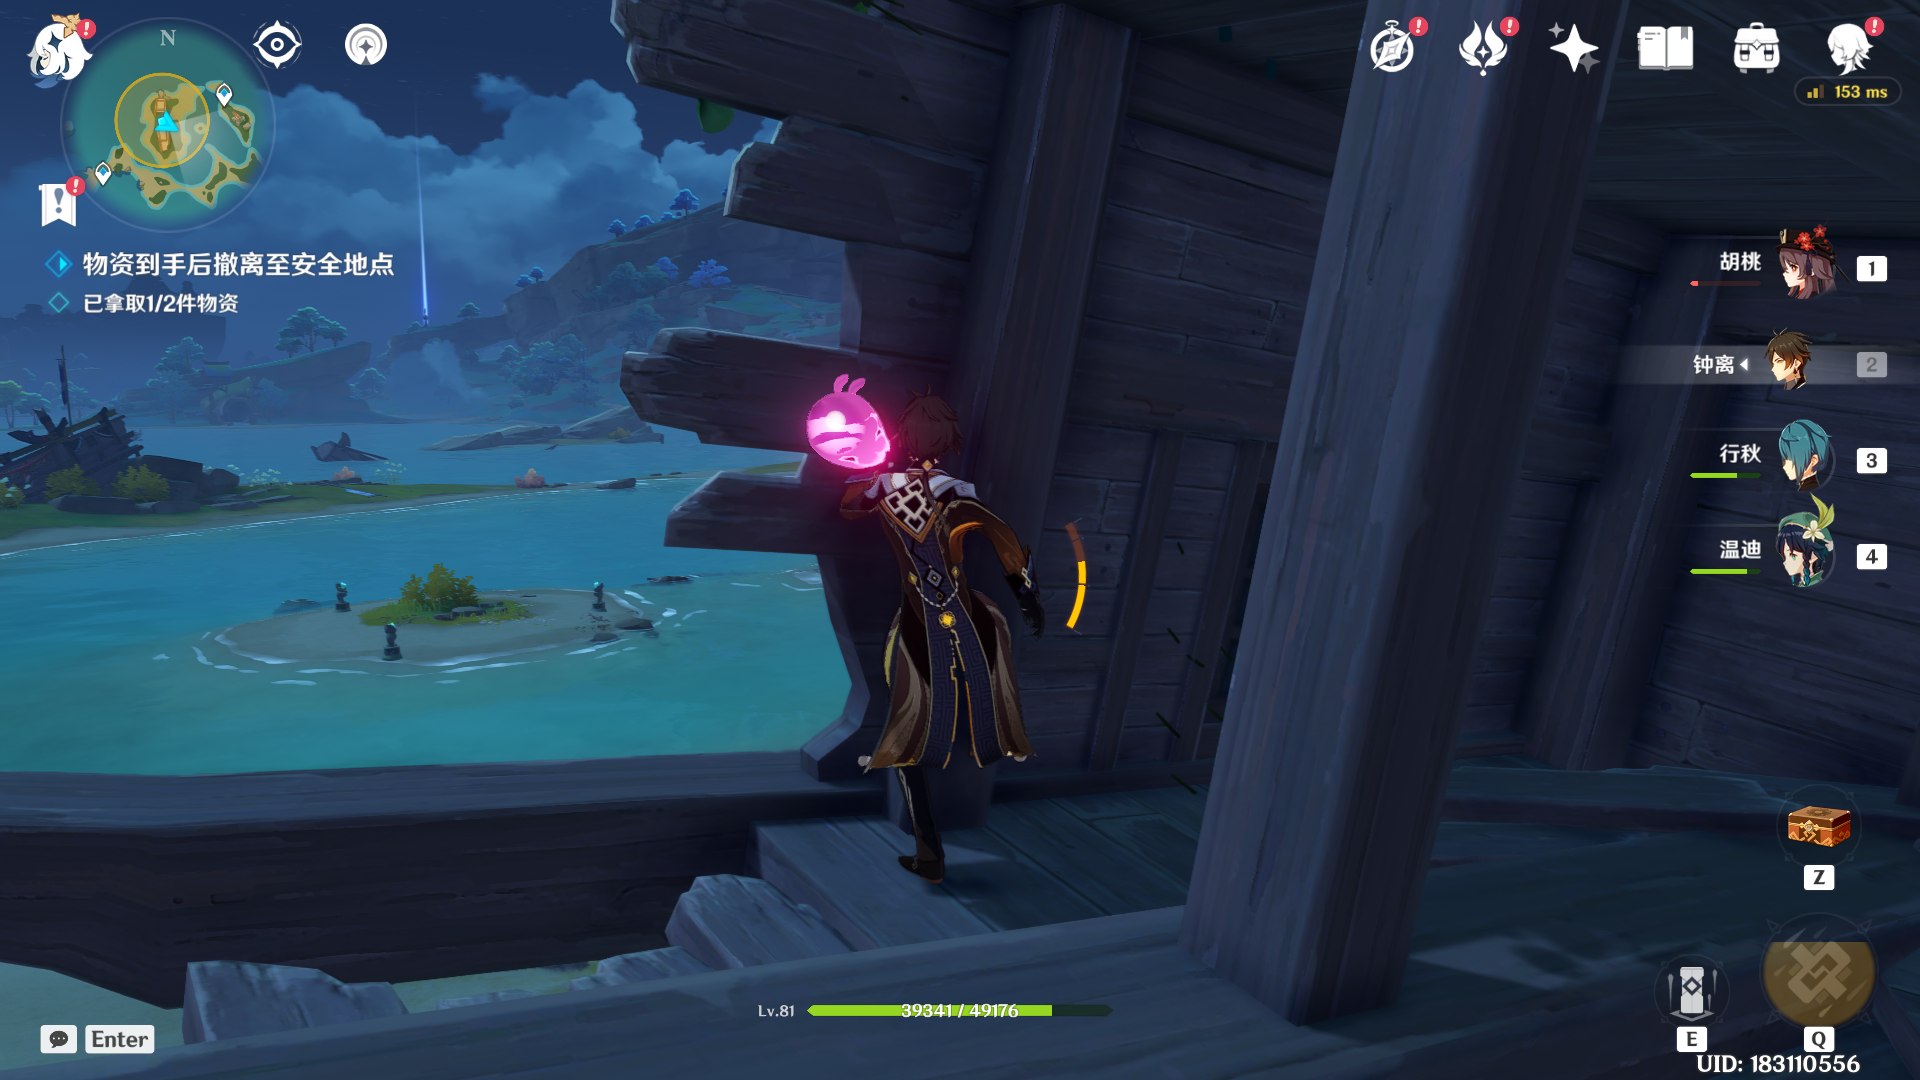character: (804, 375, 1129, 920)
